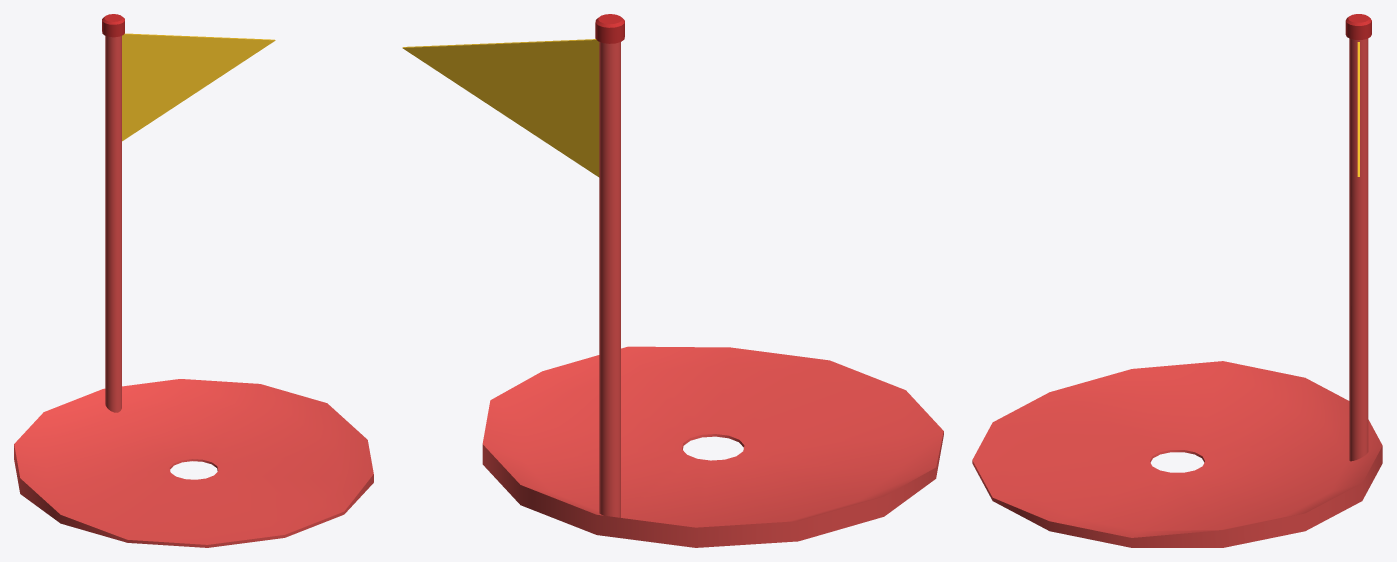
The model's file is Golf_Hole.fbx.
3 renders of one model, left to right at view 1: azimuth 30°, elevation 25°; view 2: azimuth 150°, elevation 25°; view 3: azimuth 270°, elevation 25°, orthographic. The views are drawn at different scales.
Parts seen in each view (by area): view 1: Golf_Hole; view 2: Golf_Hole; view 3: Golf_Hole.
Part boxes in pixels (x1=…): Golf_Hole: x1=14, y1=14, x2=373, y2=547; Golf_Hole: x1=402, y1=14, x2=943, y2=547; Golf_Hole: x1=972, y1=14, x2=1382, y2=547.
Bounding box in the file's own units: 21.8 × 26.06 × 21.78.
1 material, 1 textured.
